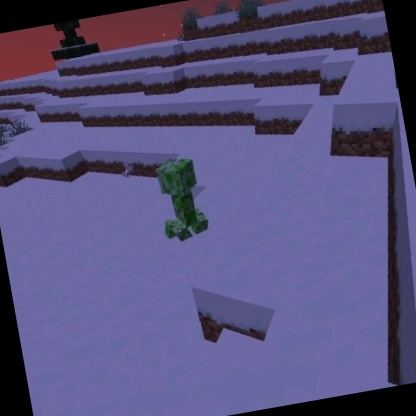creeper: (151, 151, 215, 247)
